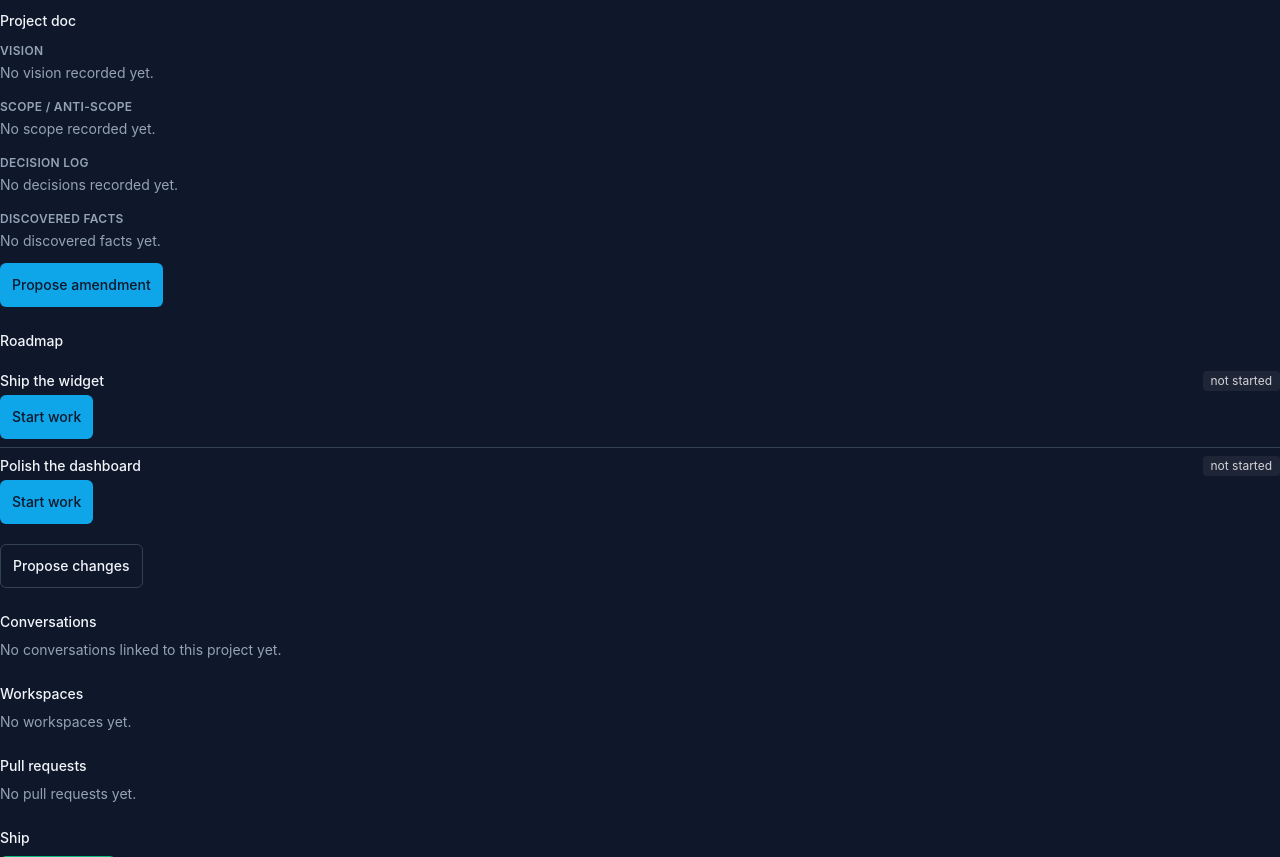
Project › propose roadmap changes action › opens the propose-changes modal and shows a plain confirmation with no link
The width and height of the screenshot is (1280, 857).
(page scrolled)
Click the button with test id "propose-roadmap-changes-open" at (71, 566), box 0,544 -> 142,588
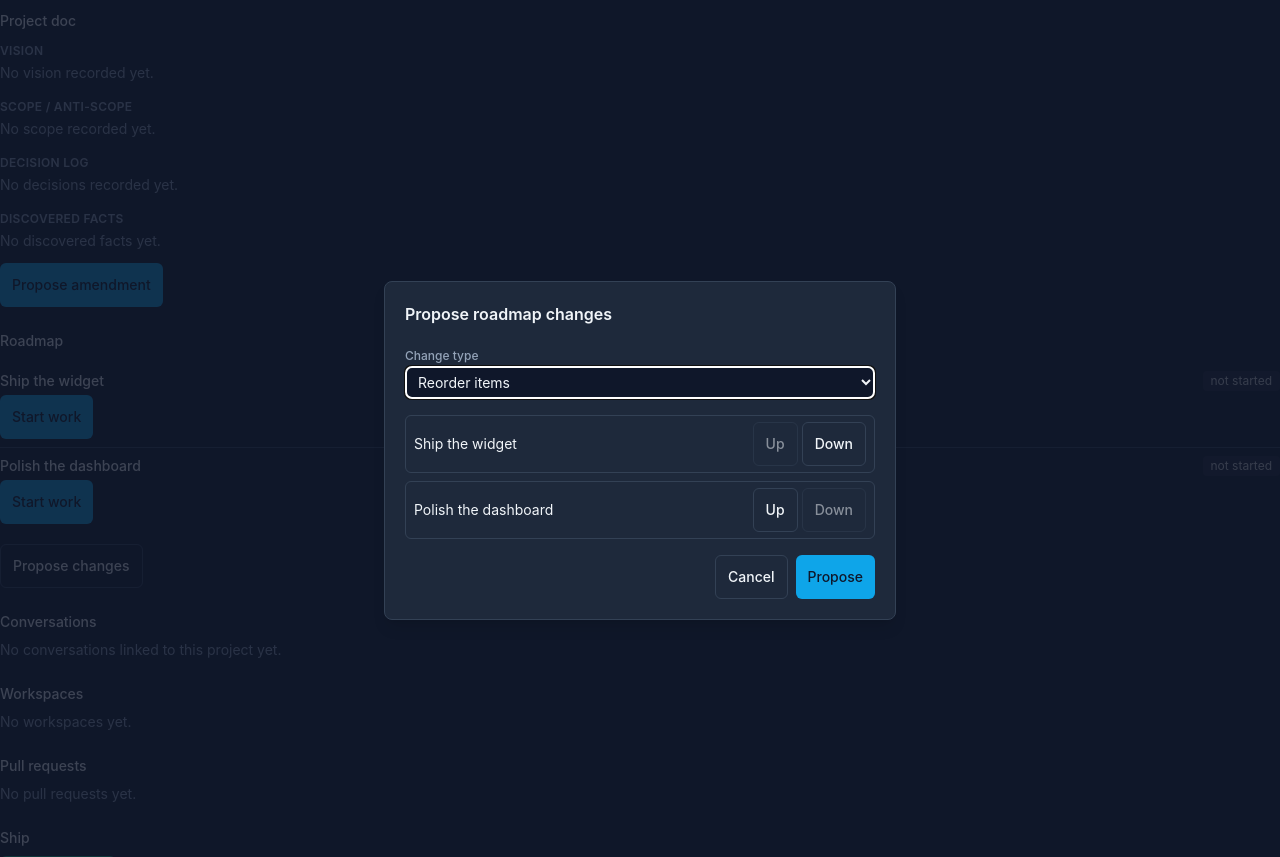
Result: the dialog with test id "propose-roadmap-changes-dialog" is shown at 384,280 -> 896,620
Click the button with test id "propose-roadmap-reorder-down-itm_1" at (834, 444), box 802,422 -> 866,466
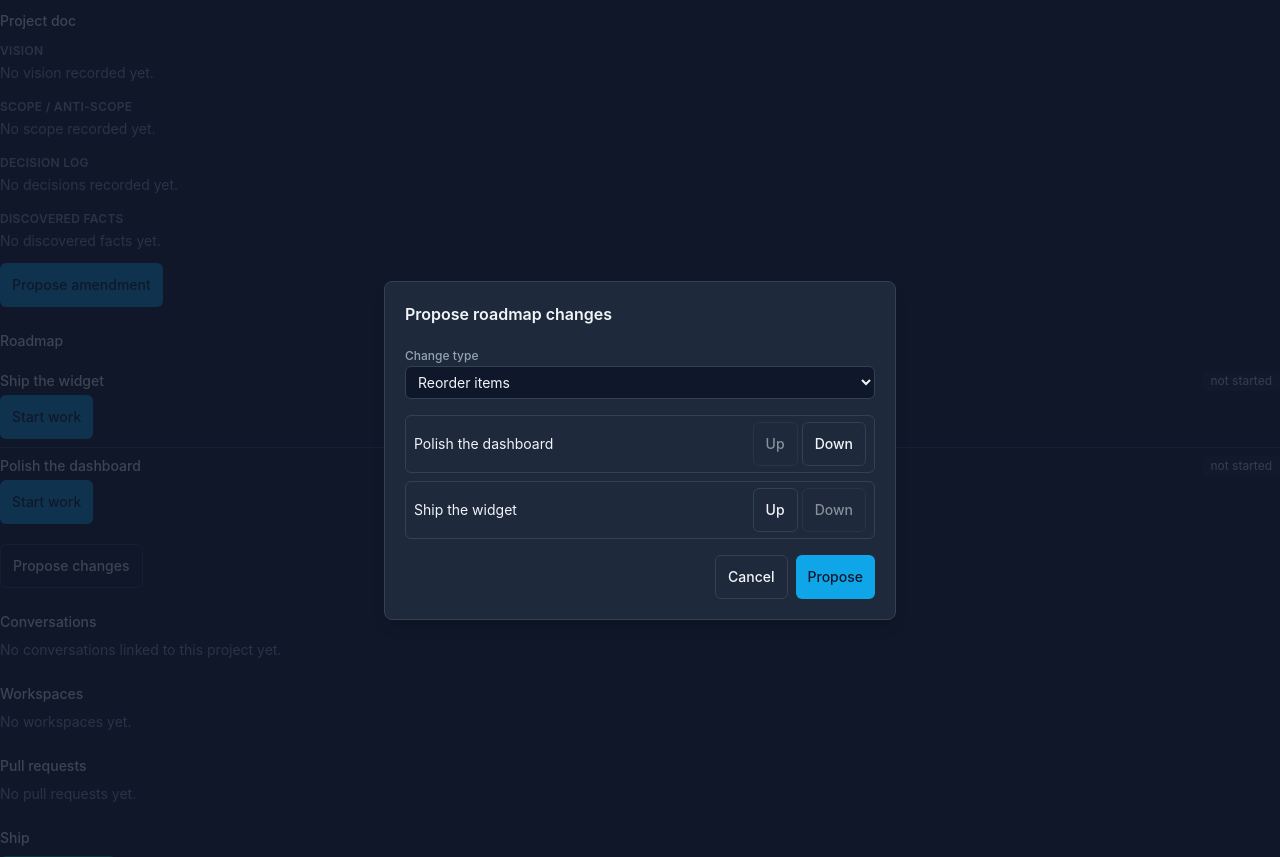
Click the button with test id "propose-roadmap-submit" at (835, 576), box 796,554 -> 875,598
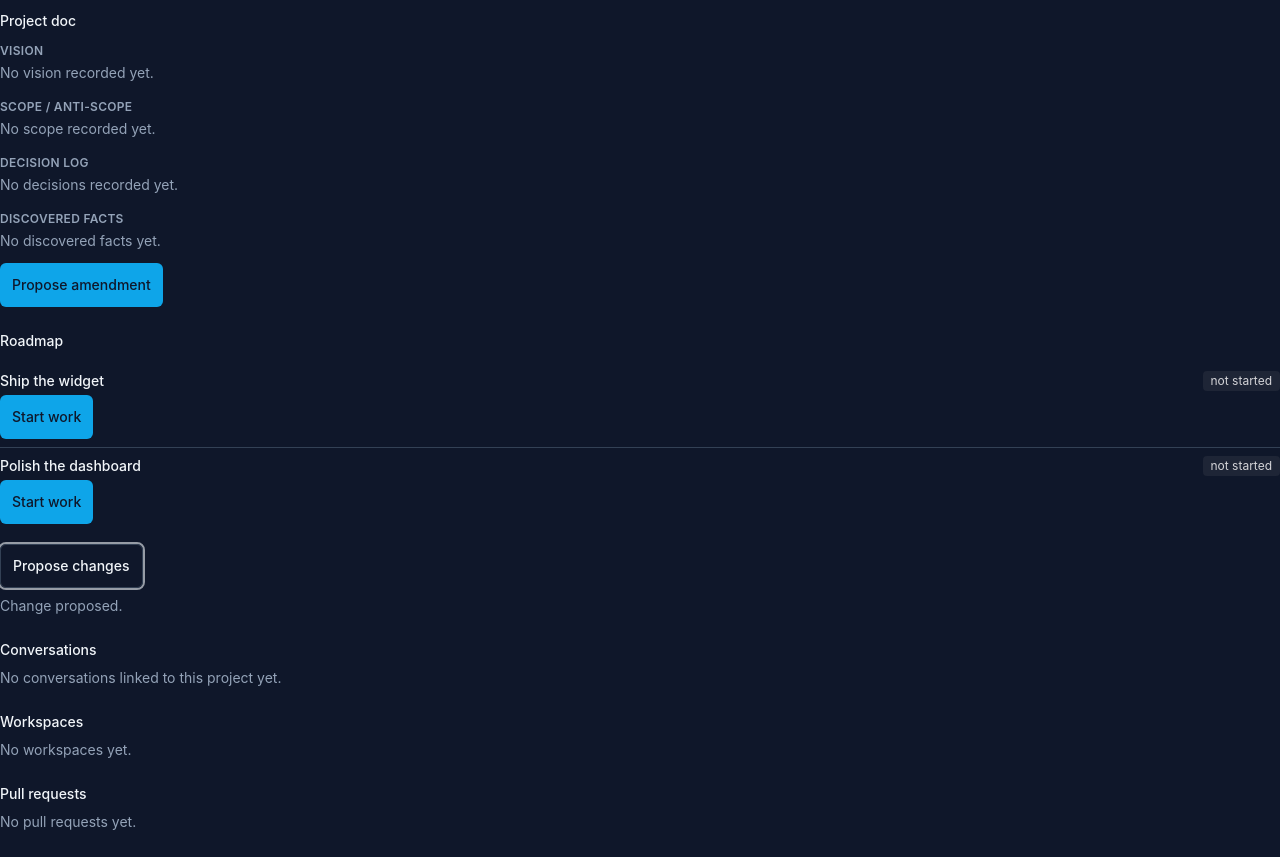
Expected: the text with test id "propose-roadmap-changes-success" does not show "inbox", 0,597 -> 122,614
Result: the text with test id "propose-roadmap-changes-success" reads "Change proposed." at 0,597 -> 122,614
Result: the dialog with test id "propose-roadmap-changes-dialog" is gone
